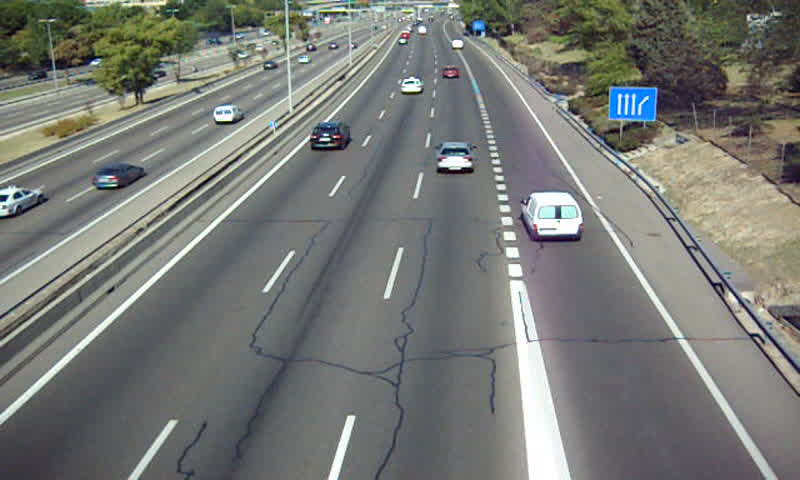car: (437, 142, 475, 174), (310, 122, 351, 151), (400, 76, 423, 95), (443, 66, 460, 80)
van: (520, 192, 585, 242)
